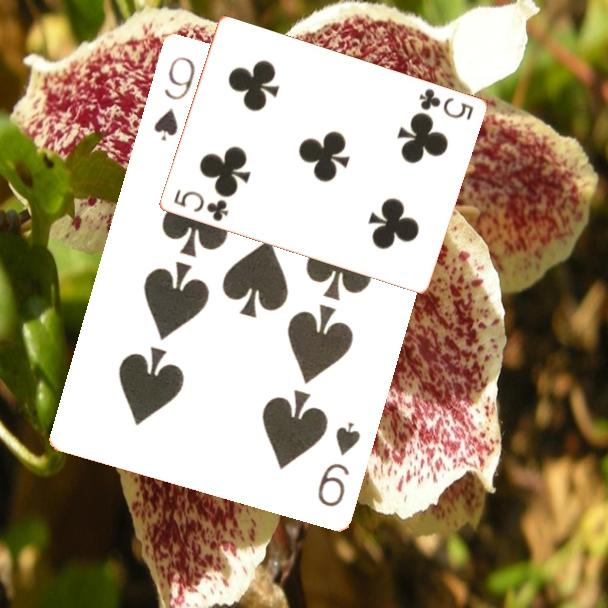c05: (170, 186, 231, 224), (415, 85, 476, 123)
s09: (313, 418, 363, 509), (150, 52, 198, 143)
